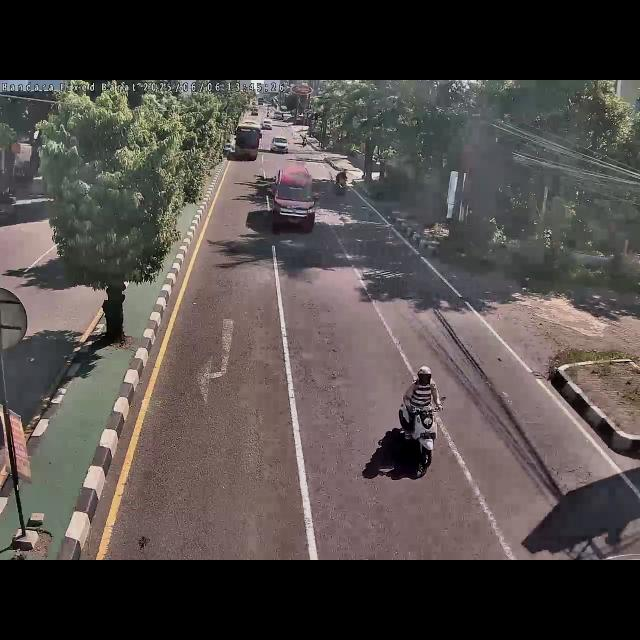Bis: (233, 116, 263, 164)
Mobil: (270, 160, 320, 238), (269, 132, 291, 158)
Motor: (398, 363, 447, 481), (333, 167, 351, 196)
